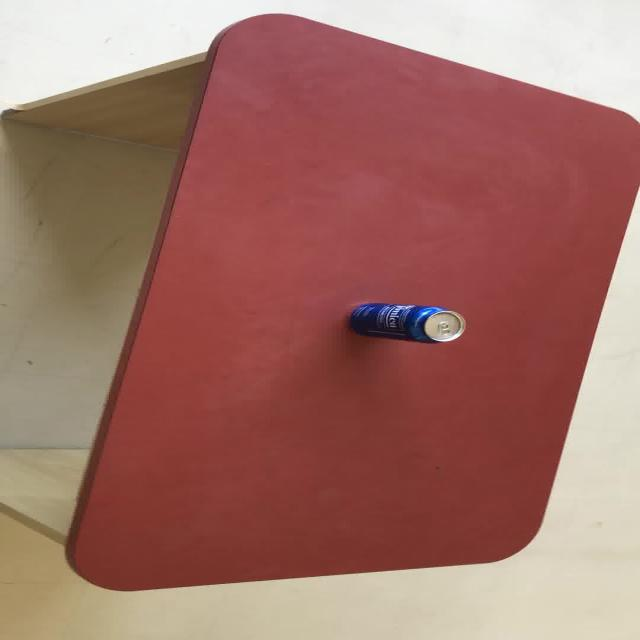tonic: (348, 302, 466, 344)
